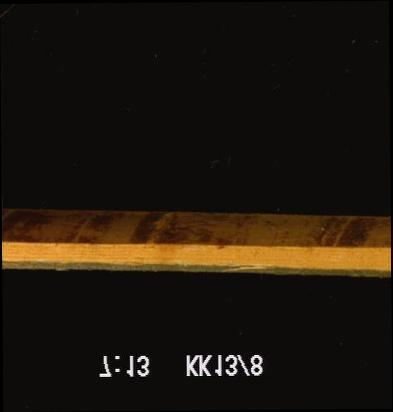wave: (1, 220, 390, 255)
